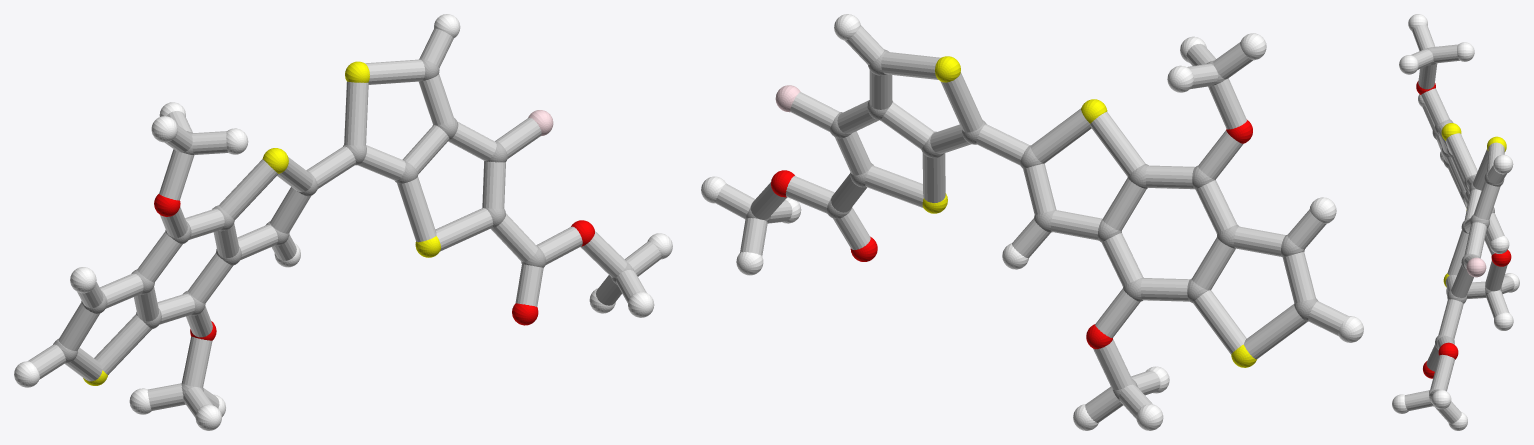
The model's file is color.glb.
3 views of the same model, side by side, from view 1: azimuth 30°, elevation 25°; view 2: azimuth 150°, elevation 25°; view 3: azimuth 270°, elevation 25° (orthographic). The views are drawn at different scales.
Parts seen in each view (by area): view 1: grp15205, grp8689, grp1, grp7241, grp13395; view 2: grp15205, grp8689, grp1, grp7241, grp13395; view 3: grp15205, grp8689, grp1, grp13395, grp7241, grp14843.
Boxes of the visible parts, x1,y1,x2,y2 form: grp15205: (28, 28, 661, 417); grp8689: (14, 14, 672, 430); grp1: (53, 58, 634, 404); grp7241: (83, 61, 440, 385); grp13395: (154, 194, 594, 340); grp15205: (715, 25, 1347, 422); grp8689: (701, 14, 1363, 430); grp1: (745, 49, 1318, 400); grp7241: (922, 56, 1256, 367); grp13395: (771, 120, 1252, 349); grp15205: (1404, 24, 1514, 423); grp8689: (1392, 14, 1519, 430); grp1: (1426, 47, 1504, 406); grp13395: (1416, 81, 1511, 378); grp7241: (1441, 123, 1506, 287); grp14843: (1466, 257, 1486, 277).
Size of the model in its own units: 16.98 by 9.24 by 3.87.
